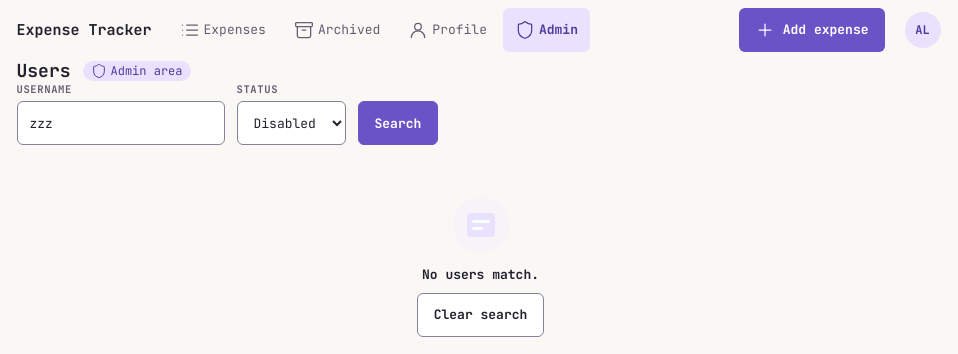
Test case: users list › a page past the end › offers Clear search when a filter matches nobody, and it resets the filters
Check: the text "No users match." is shown, box [422,265,539,285]
Click the button "Clear search" at x=480, y=315, box [417,293,544,337]
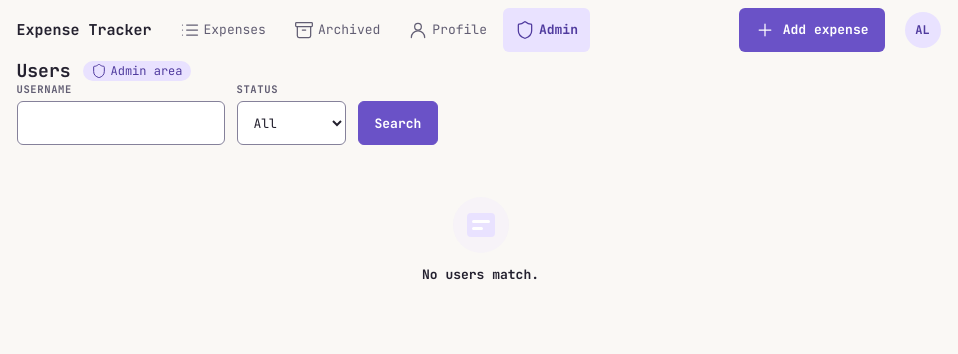
Check: the field labelled "Username" is empty, box [16,101,224,145]
Check: the dropdown labelled "Status" shows "All", box [236,101,346,145]
